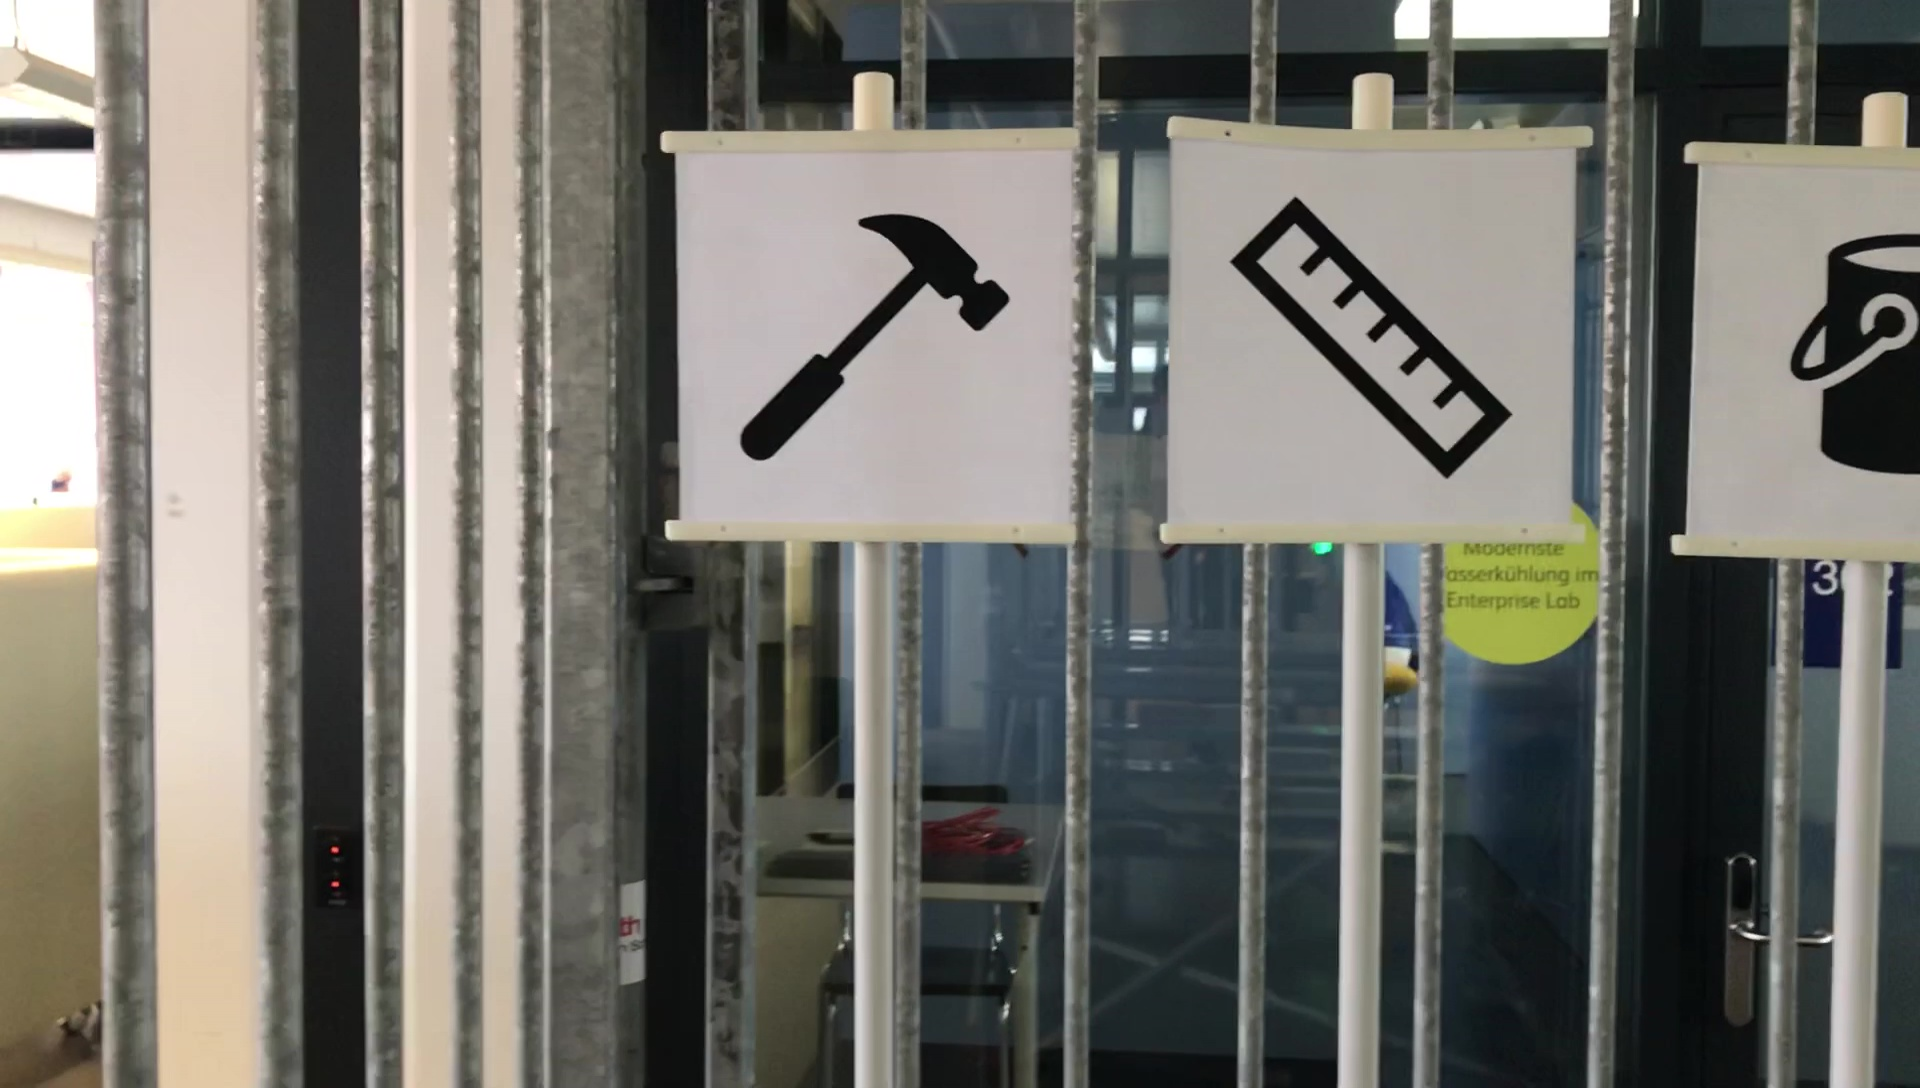bucket: (1783, 219, 1920, 488)
hammer: (738, 208, 1021, 464)
ruler: (1212, 189, 1522, 495)
